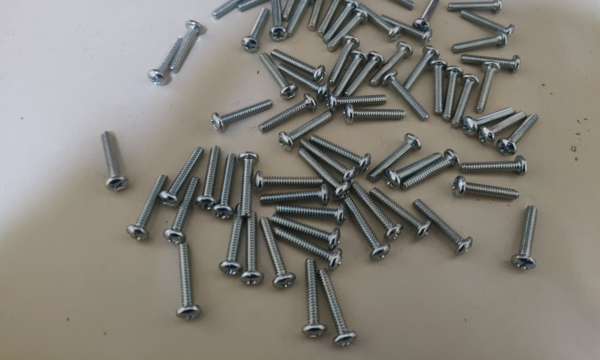longscrew: (417, 199, 472, 253), (345, 197, 388, 266), (270, 216, 340, 257), (273, 225, 342, 266), (322, 267, 356, 349), (354, 182, 402, 238), (373, 187, 430, 234), (293, 152, 349, 198), (161, 149, 206, 206), (258, 218, 295, 287), (371, 134, 426, 178), (302, 141, 358, 182), (130, 176, 165, 241), (403, 151, 461, 190), (259, 94, 316, 133), (213, 93, 270, 132), (165, 177, 197, 246), (302, 258, 328, 342), (311, 134, 373, 166), (177, 237, 198, 330), (280, 62, 330, 100), (386, 73, 427, 119), (514, 203, 539, 274), (100, 133, 129, 194), (382, 153, 443, 182), (330, 4, 370, 48), (280, 114, 331, 148), (258, 184, 330, 208), (258, 55, 298, 98), (375, 41, 413, 86), (254, 170, 325, 194), (451, 178, 522, 202), (476, 110, 526, 144), (324, 37, 362, 81), (329, 52, 367, 96), (347, 52, 385, 96), (274, 47, 326, 79), (276, 205, 348, 228), (404, 45, 440, 89), (221, 206, 243, 276), (464, 9, 516, 38), (198, 148, 221, 213), (241, 214, 262, 285), (450, 74, 478, 127), (503, 114, 542, 152), (361, 1, 401, 38), (465, 108, 517, 135), (382, 14, 434, 41), (151, 38, 182, 83), (451, 155, 533, 171), (324, 0, 355, 42), (326, 90, 389, 110), (238, 150, 257, 216), (173, 21, 196, 74), (343, 106, 407, 125), (217, 156, 236, 217), (452, 32, 509, 52), (242, 7, 267, 52), (445, 64, 463, 122), (462, 53, 521, 70), (481, 63, 499, 116), (430, 58, 446, 116), (320, 0, 342, 36), (212, 0, 258, 17), (416, 0, 440, 32), (448, 0, 507, 13), (288, 0, 307, 38), (270, 0, 286, 42), (234, 0, 289, 11), (311, 0, 326, 34), (365, 0, 416, 8), (285, 0, 304, 19)
